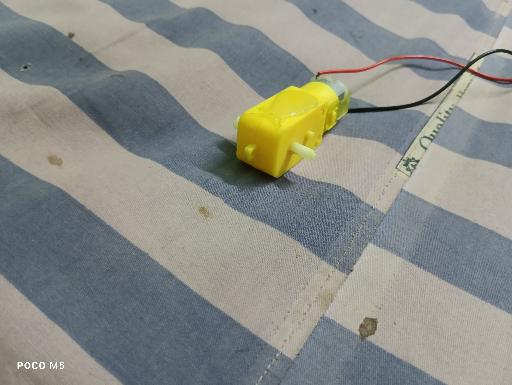Motor: (234, 72, 352, 179)
